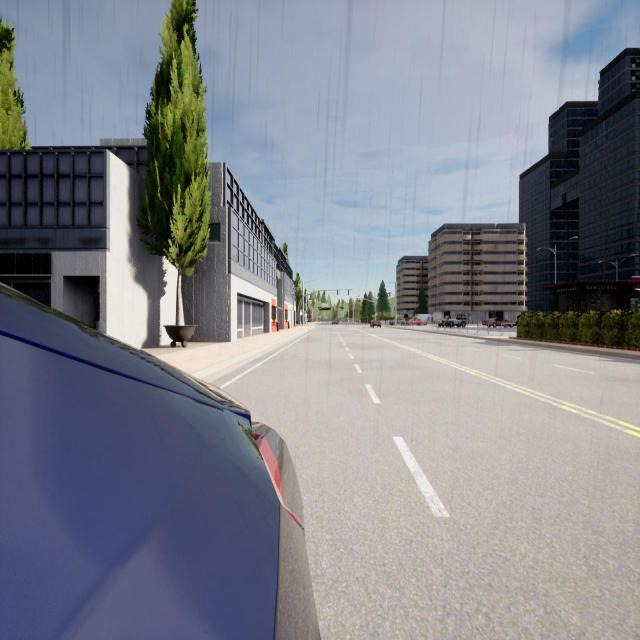Vehicle: (0, 284, 319, 638), (482, 316, 514, 328), (446, 314, 467, 328), (412, 314, 432, 326), (438, 315, 450, 328), (389, 317, 406, 325), (407, 318, 422, 326), (370, 319, 381, 328), (332, 319, 338, 325)
traffic_light: (324, 290, 325, 295), (337, 290, 338, 295), (394, 306, 395, 310), (359, 298, 360, 302), (375, 310, 376, 314), (348, 290, 349, 294), (390, 292, 390, 296), (350, 298, 350, 302), (342, 298, 342, 302)
